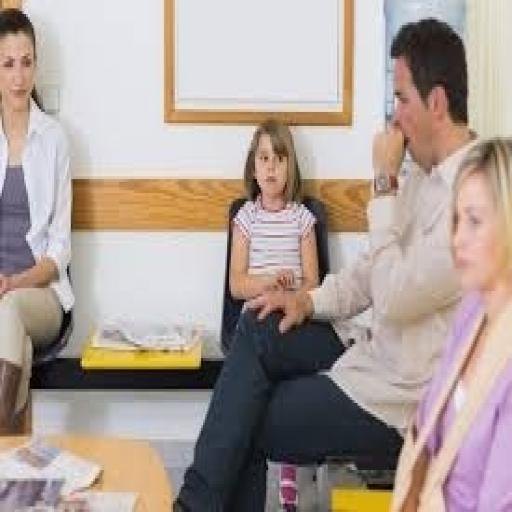sitting: (170, 14, 480, 509), (389, 132, 510, 509), (0, 5, 76, 433)
